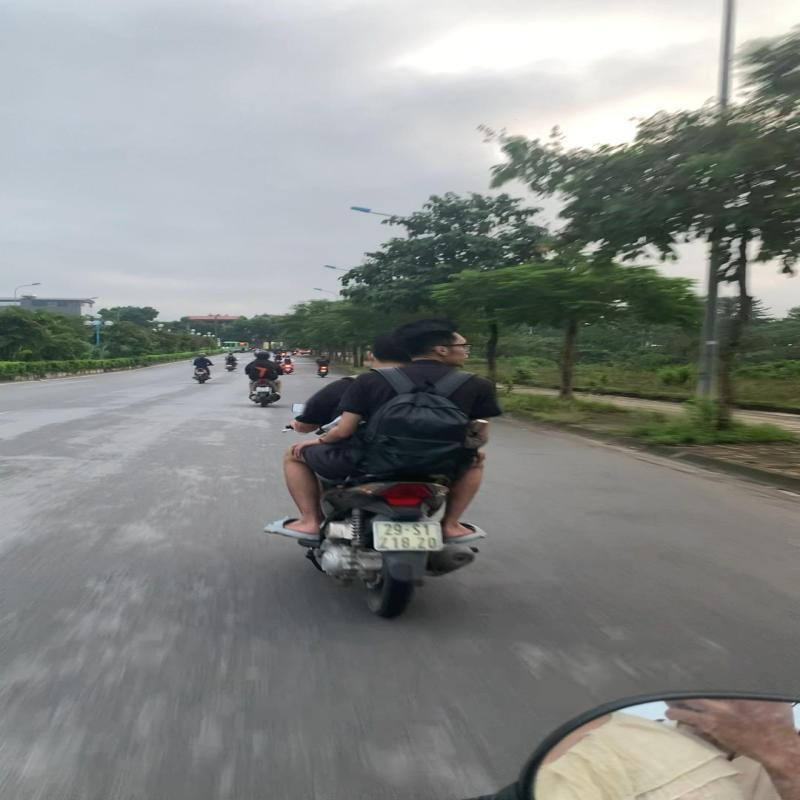licenseplate: (367, 518, 450, 554)
motorcyclist: (257, 320, 499, 626)
nohelmet: (388, 318, 478, 368), (360, 328, 411, 368)
